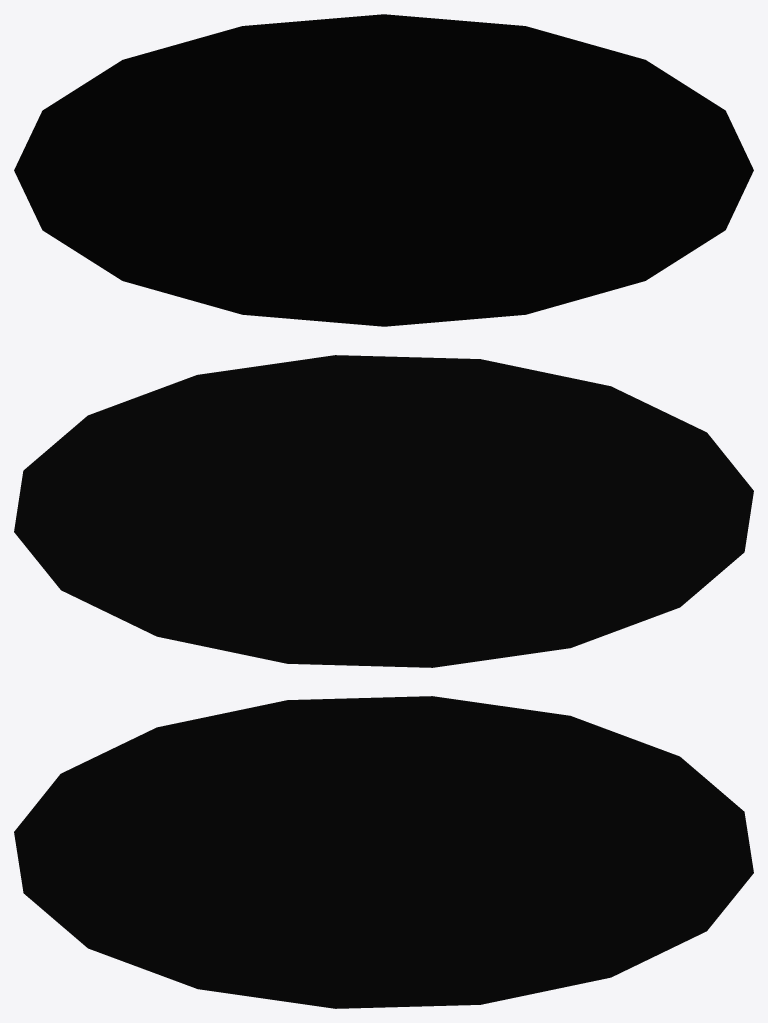
3 views of the same model, one above another, from view 1: azimuth 30°, elevation 25°; view 2: azimuth 150°, elevation 25°; view 3: azimuth 270°, elevation 25° (orthographic).
Parts seen in each view (by area): view 1: Joint_0_Object_0; view 2: Joint_0_Object_0; view 3: Joint_0_Object_0.
Part boxes in pixels (bbox=[...]): Joint_0_Object_0: bbox=[14, 14, 753, 326]; Joint_0_Object_0: bbox=[14, 355, 753, 667]; Joint_0_Object_0: bbox=[14, 696, 753, 1008].
Size of the model in its own units: 247 by 6.92 by 247.
1 material, 1 textured.
